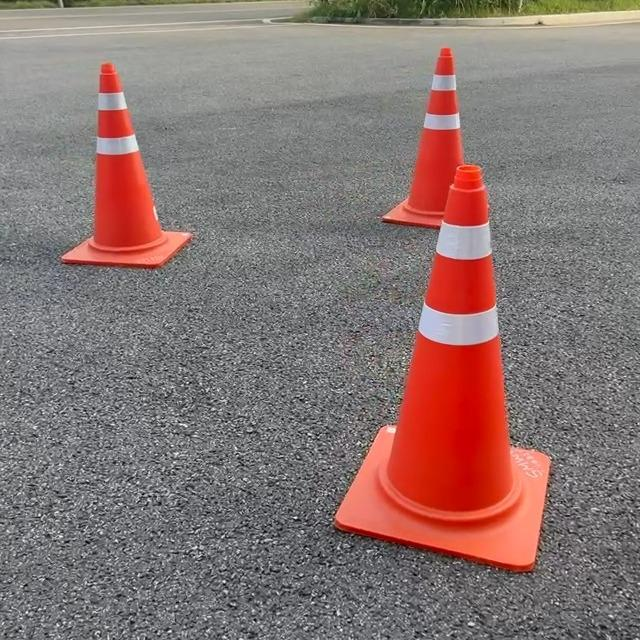fallen_object: (350, 113, 571, 560), (31, 0, 231, 337), (352, 19, 512, 219)
